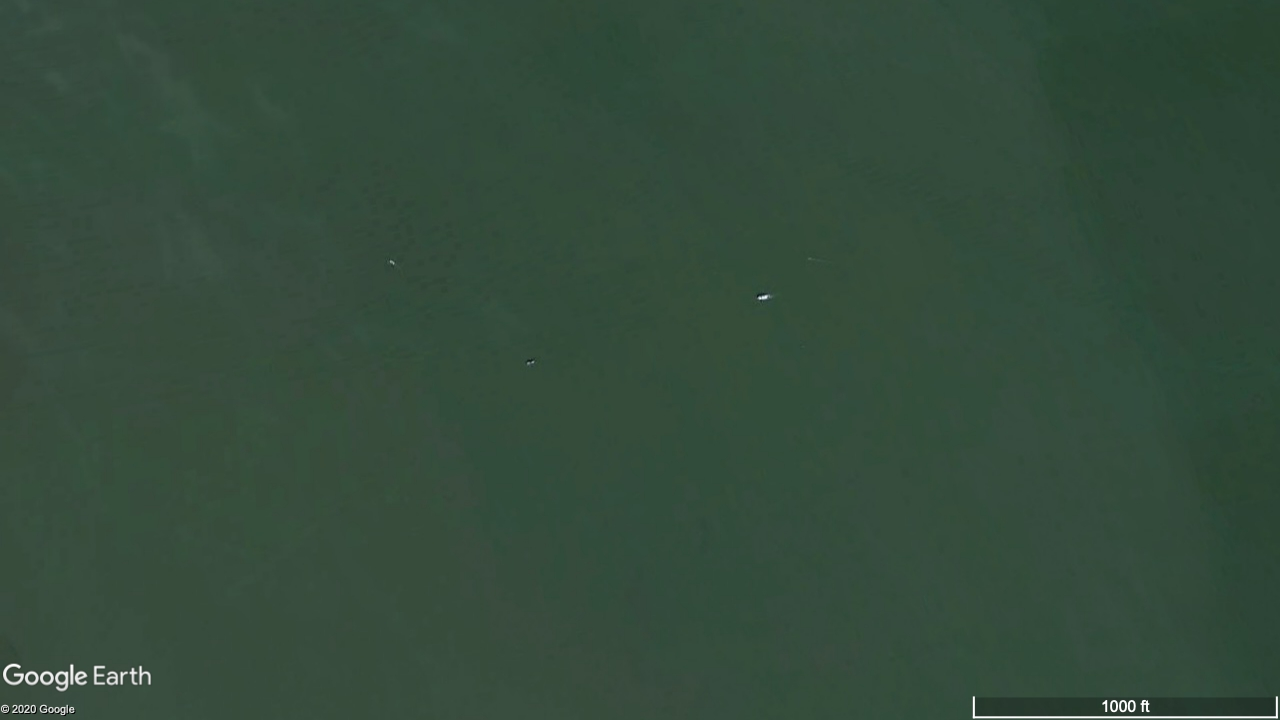satboat: (757, 295, 771, 301), (526, 360, 536, 365), (389, 259, 395, 265), (808, 256, 813, 261)
